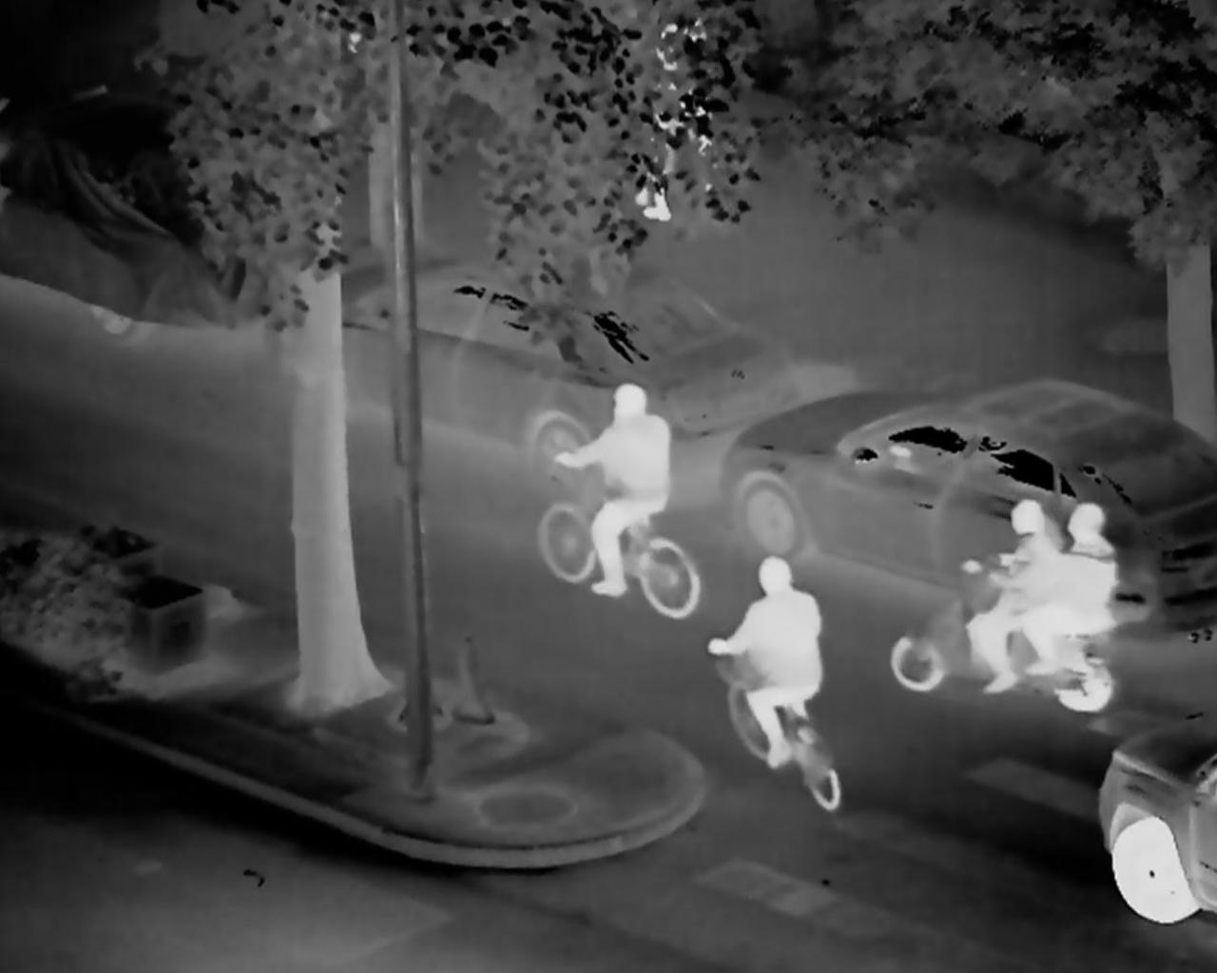person: (545, 383, 684, 603), (705, 553, 838, 773), (1031, 491, 1120, 692), (969, 496, 1063, 678), (642, 25, 705, 226)
